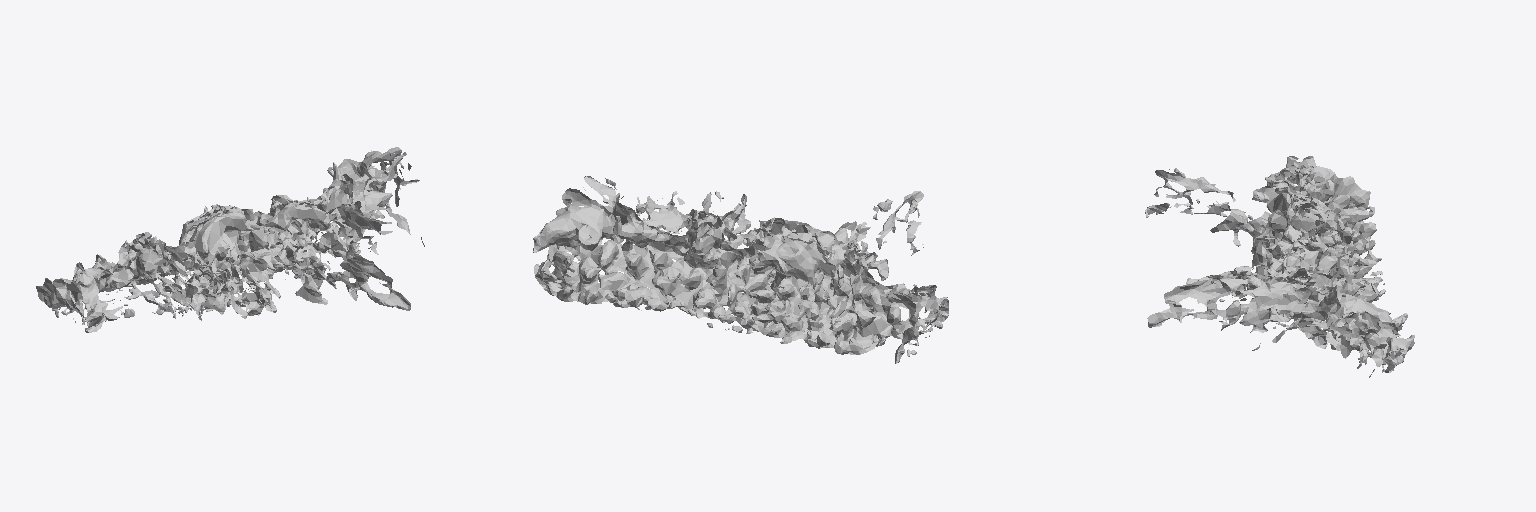
Rendered from kistch_lowpoly.obj.
3 views of the same model, side by side, from view 1: azimuth 30°, elevation 25°; view 2: azimuth 150°, elevation 25°; view 3: azimuth 270°, elevation 25° (orthographic).
Size of the model in its own units: 8.15 by 2.26 by 5.4.